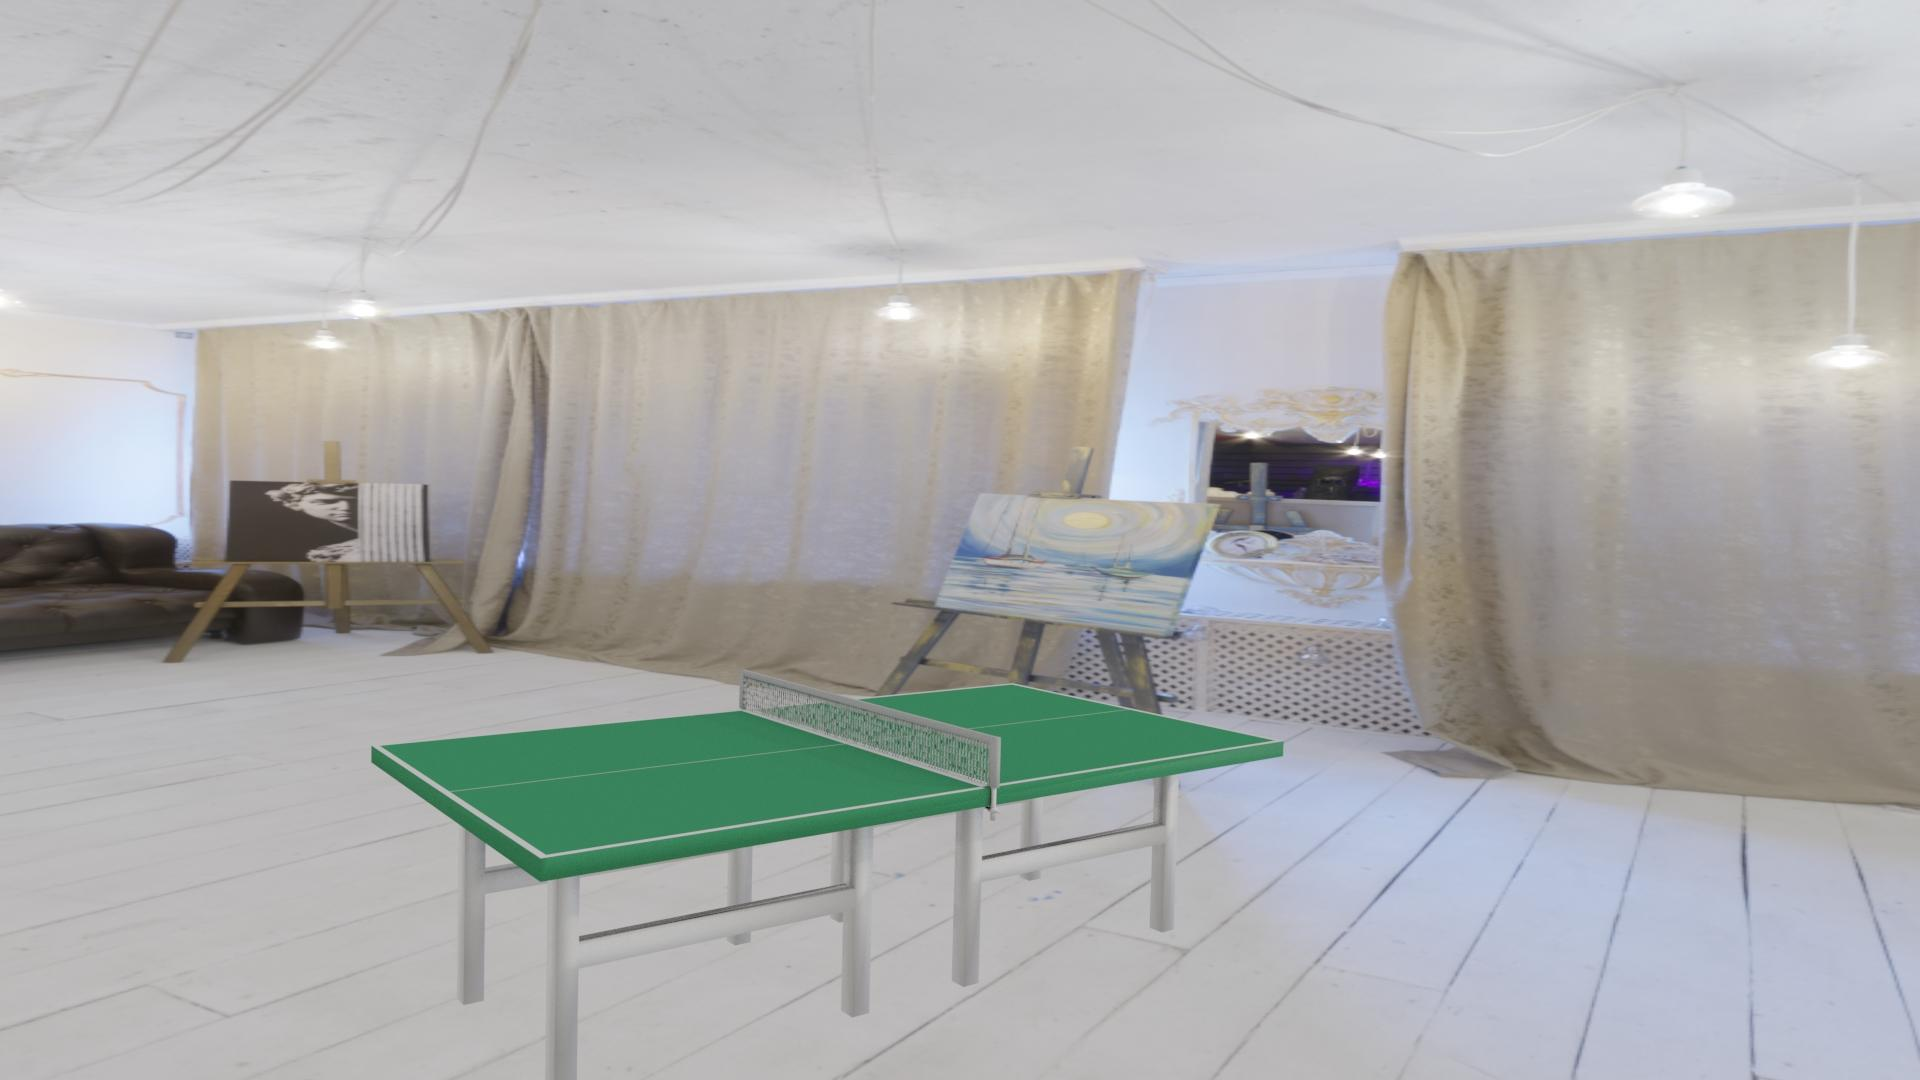table: (380, 684, 1275, 855)
